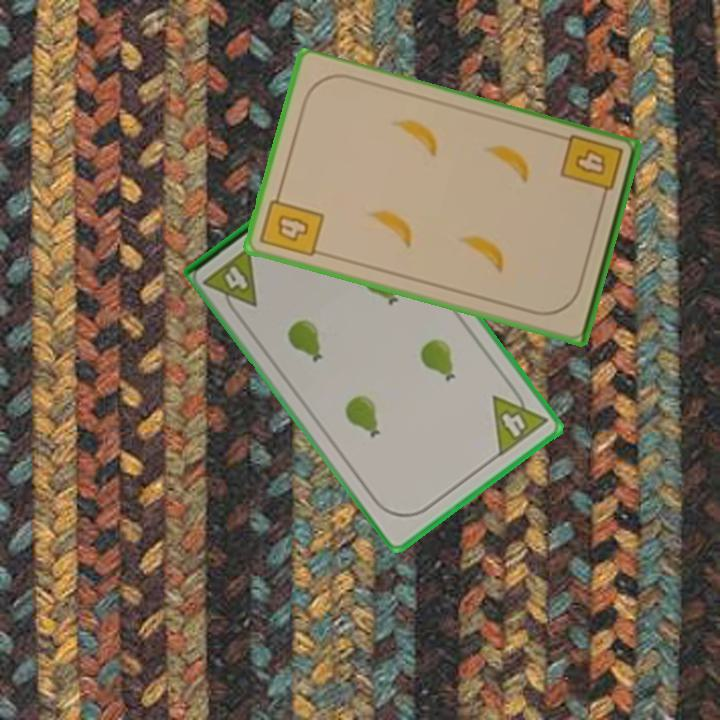4b: (557, 131, 626, 207), (256, 187, 327, 260)
4p: (488, 379, 551, 459), (201, 242, 261, 321)
